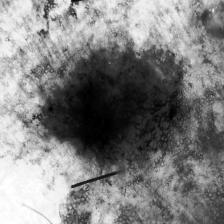Benign Marking or Mole: (38, 49, 182, 157)
